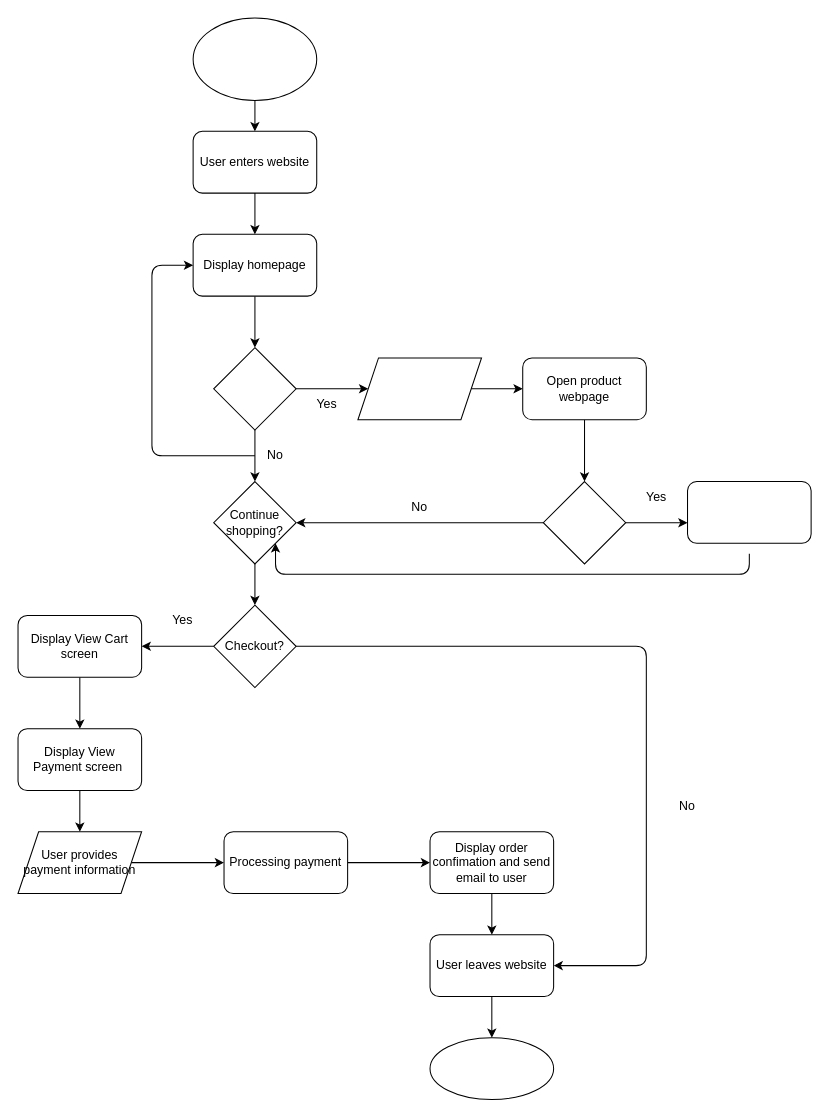
Some shapes in this 829 by 1118 pixel diagram are drawn without their labels. The centre of each missing label's shape, as x and y in pixels:
"Add item to cart?" belongs at point (584, 522).
"Add item to user's cart" belongs at point (748, 511).
"End" belongs at point (491, 1068).
"Search for a specific product?" belongs at point (254, 388).
"Start" belongs at point (254, 58).
"User provides search query" belongs at point (419, 388).
